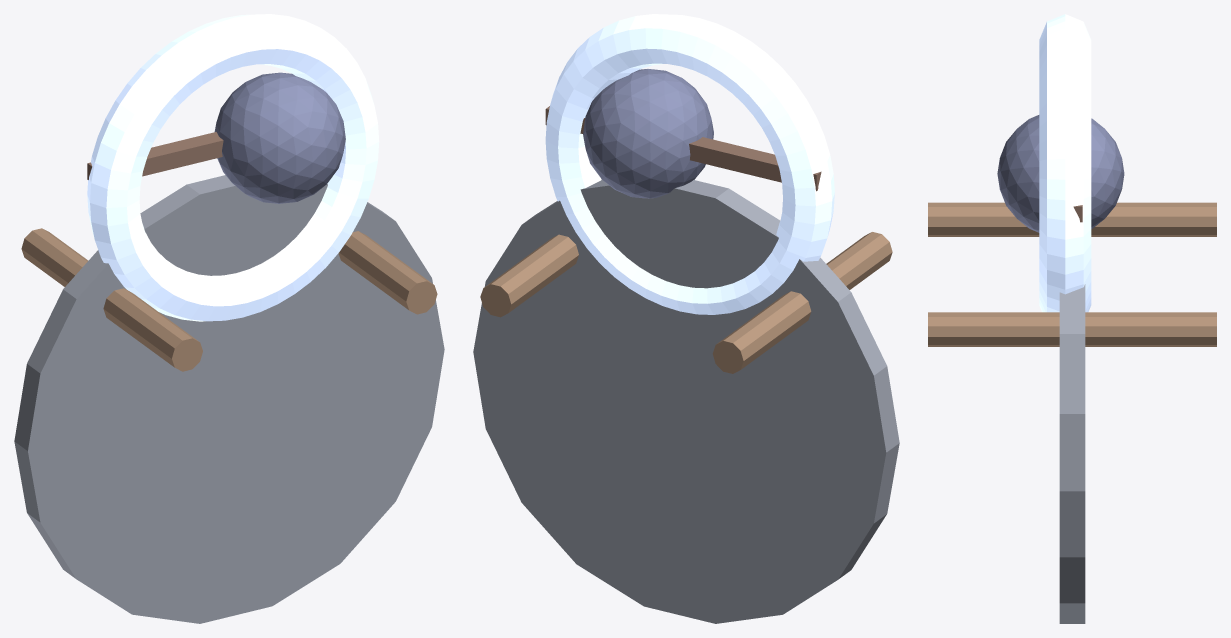
The model's file is hero_moon_shrine.glb.
3 views of the same model, side by side, from view 1: azimuth 30°, elevation 25°; view 2: azimuth 150°, elevation 25°; view 3: azimuth 270°, elevation 25° (orthographic). The views are drawn at different scales.
Parts seen in each view (by area): view 1: world; view 2: world; view 3: world.
Boxes of the visible parts, box(x1,y1,x2,y2) form: world: box(14, 14, 444, 623); world: box(473, 14, 899, 623); world: box(928, 14, 1216, 623).
Size of the model in its own units: 3.2 by 4.37 by 2.
